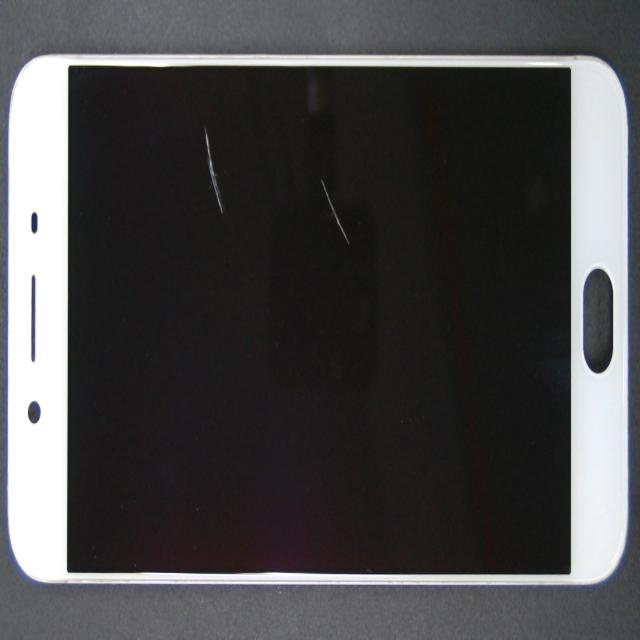scratch: (191, 165, 516, 309), (139, 141, 343, 254)
